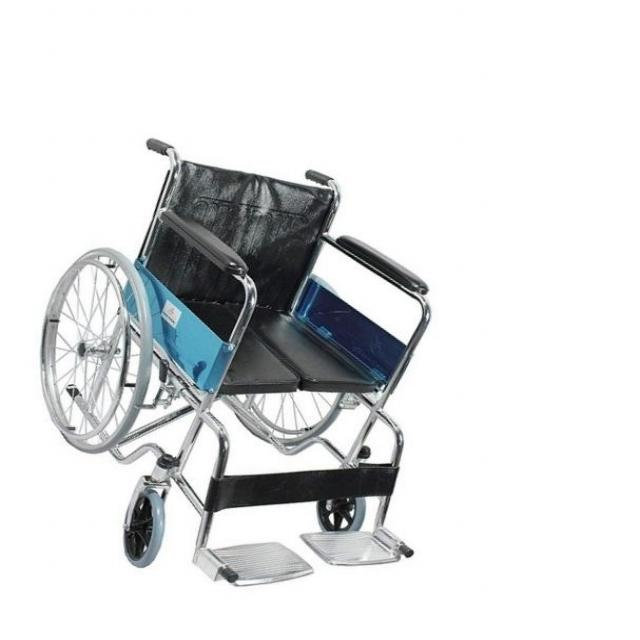wheelchair: (18, 127, 446, 599)
